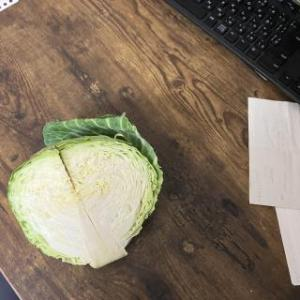cabbage: (5, 112, 164, 270)
